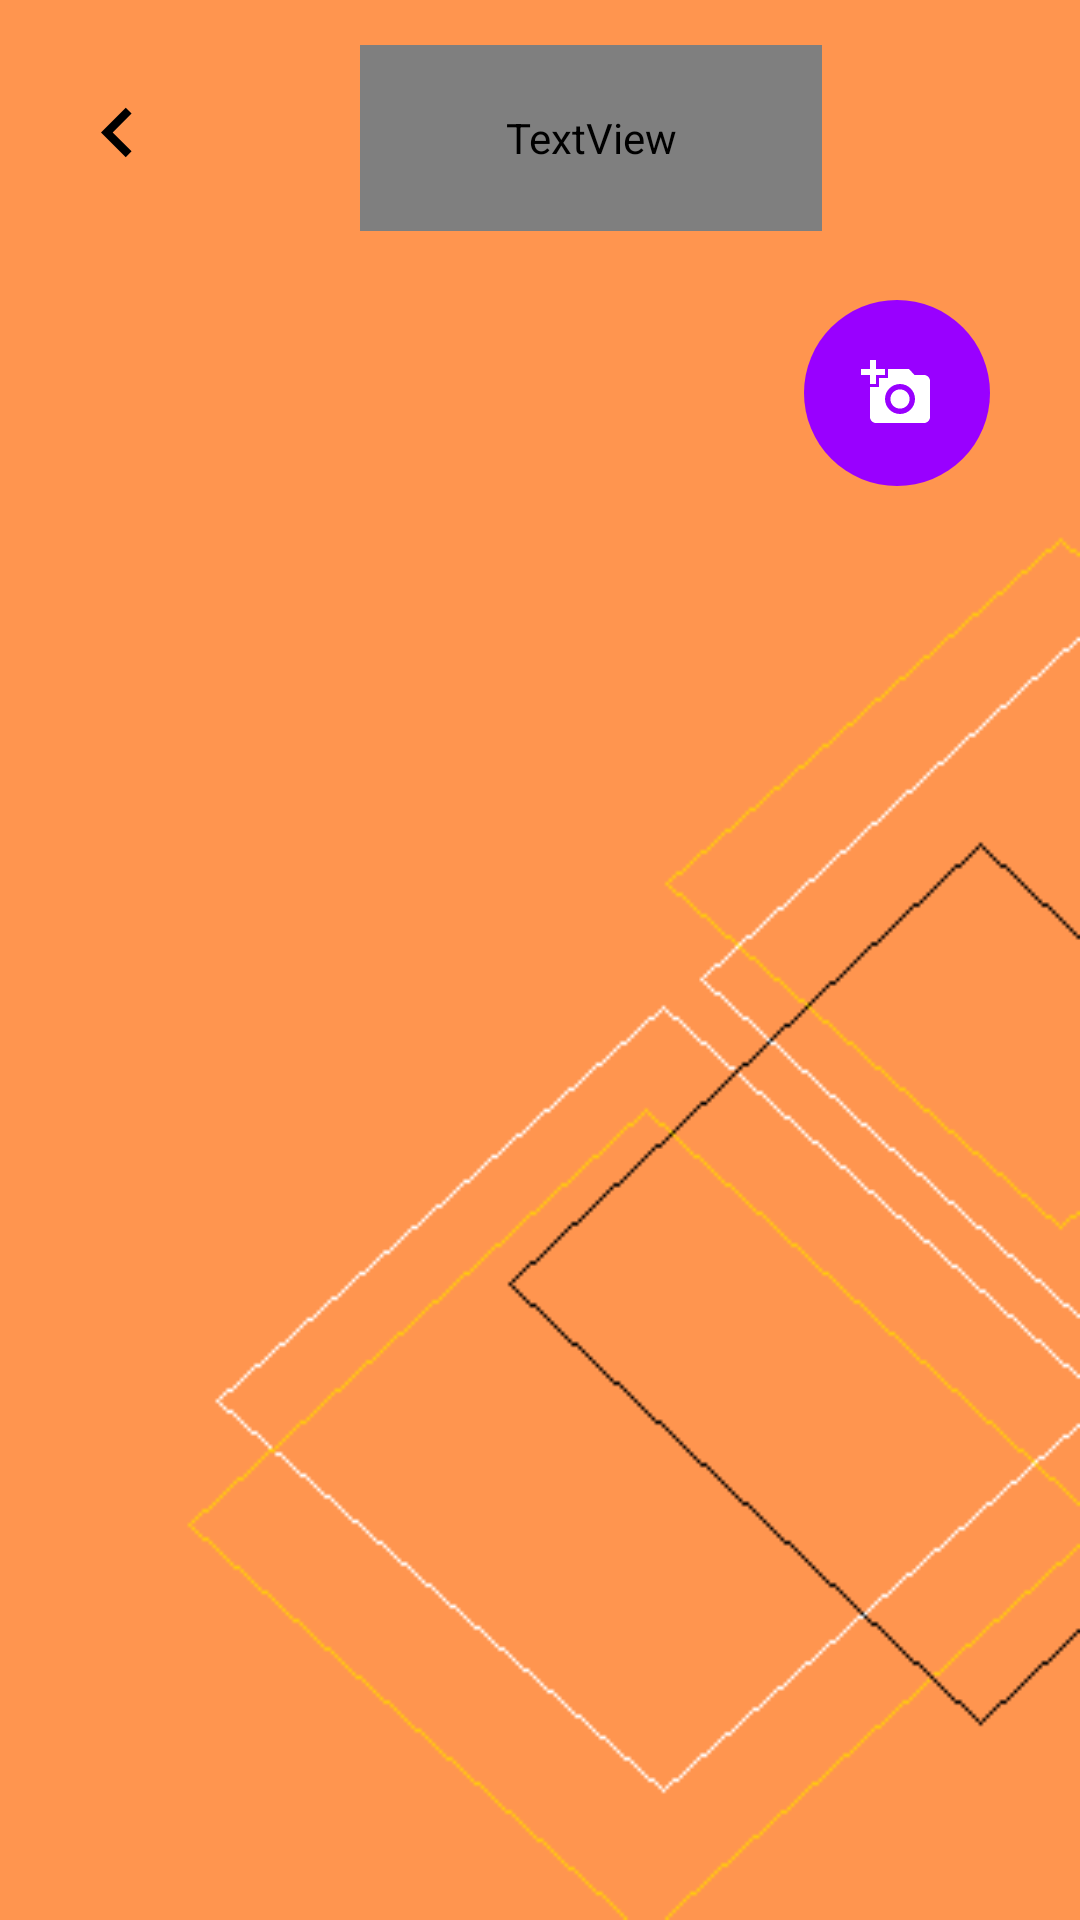

Screen size 1080*1920. Icon name, then its center in pixels as (x,y):
add camera photo: (897,393)
keyboard arrow left: (116,132)
